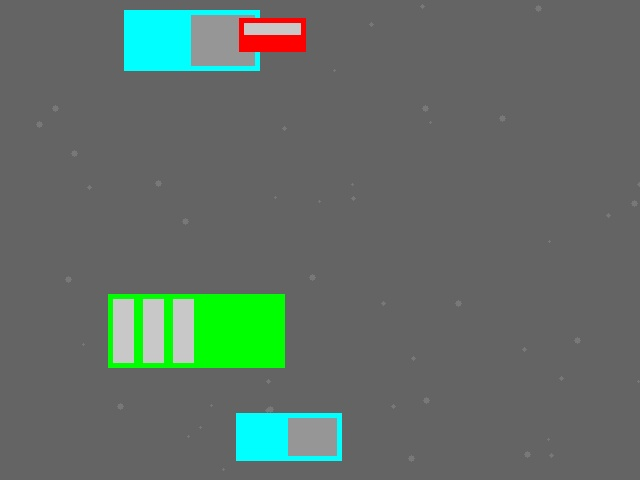bus: (108, 294, 284, 367)
car: (239, 18, 305, 51)
truck: (124, 10, 259, 70), (236, 413, 341, 460)
